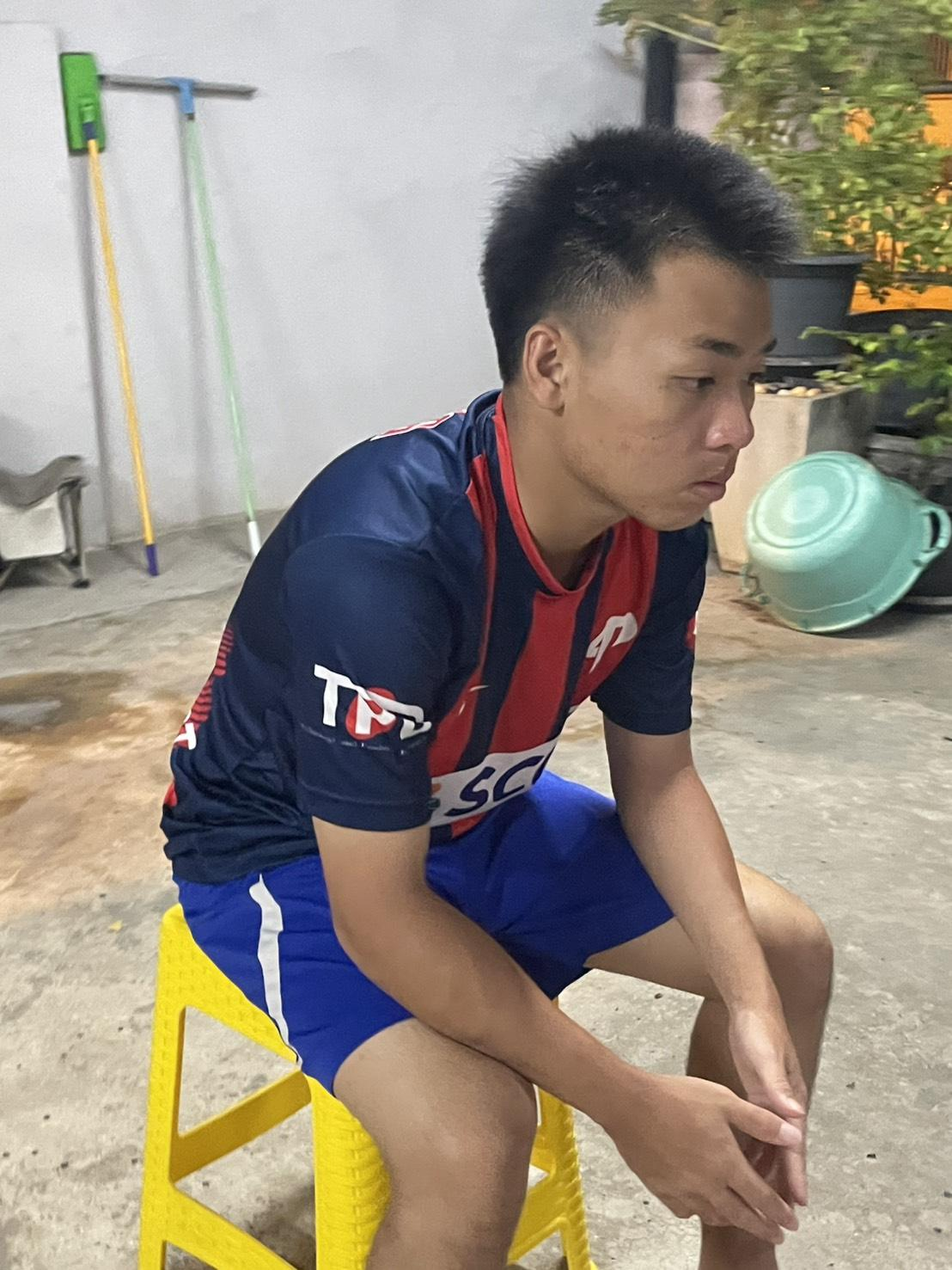BadPosture: (161, 126, 795, 884)
